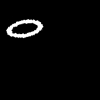chain: (7, 20, 42, 37)
